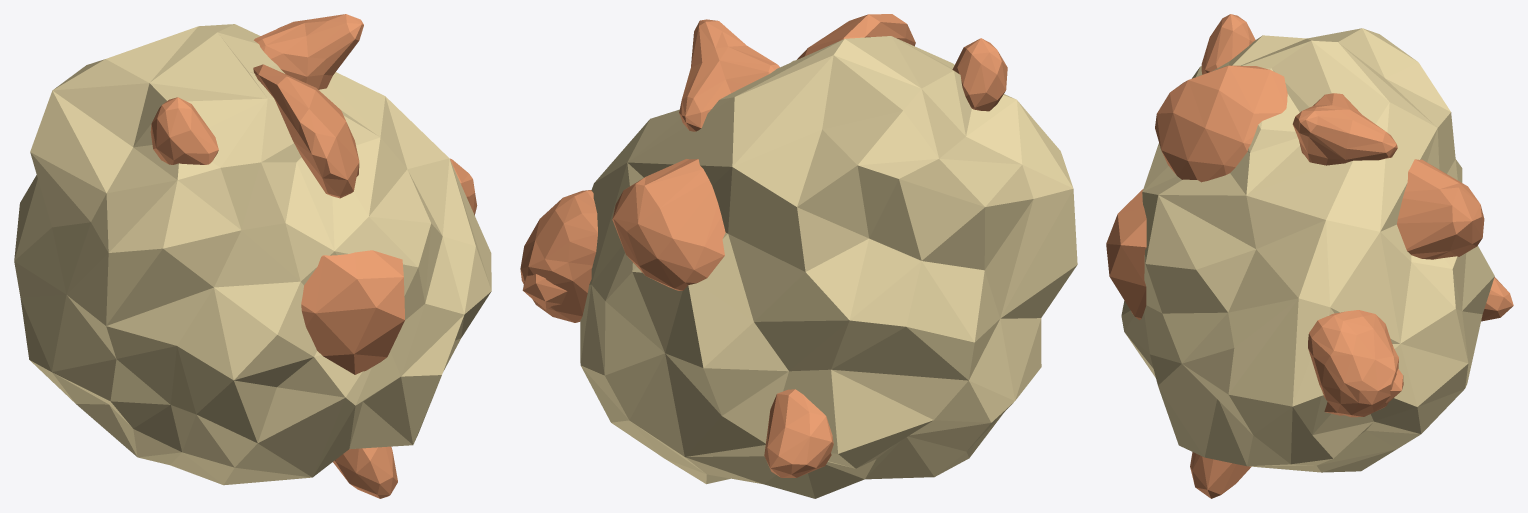
The model's file is StoneOre (14).fbx.
The picture shows the model from 3 angles, left to right: view 1: azimuth 30°, elevation 25°; view 2: azimuth 150°, elevation 25°; view 3: azimuth 270°, elevation 25°; orthographic projection. The views are drawn at different scales.
Visible parts, largest first — view 1: Asteroid301; view 2: Asteroid301; view 3: Asteroid301.
Boxes of the visible parts, x1,y1,x2,y2 form: Asteroid301: (14,14,491,498); Asteroid301: (520,14,1077,498); Asteroid301: (1106,14,1513,498).
Bounding box in the file's own units: 489 × 475 × 431.
